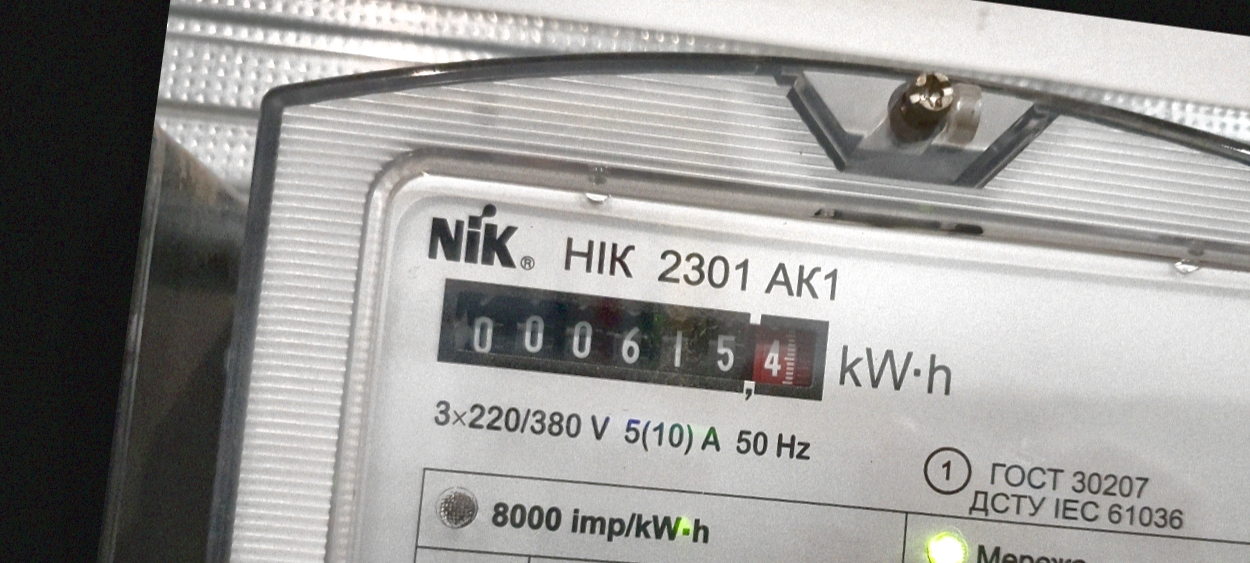0: (566, 315, 596, 361), (466, 310, 497, 354), (519, 310, 547, 353)
1: (668, 326, 686, 368)
4: (760, 334, 784, 377)
5: (710, 329, 738, 373)
6: (615, 321, 644, 364)
screen: (419, 257, 845, 423)
